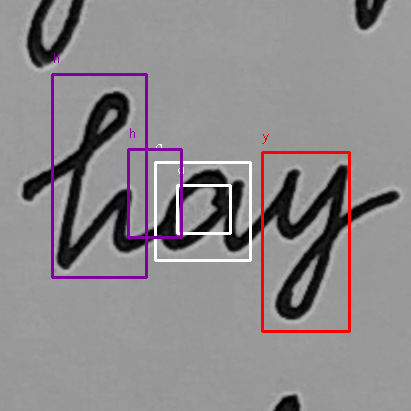a: (154, 163, 249, 261)
h: (52, 85, 145, 272)
y: (264, 158, 352, 324)
